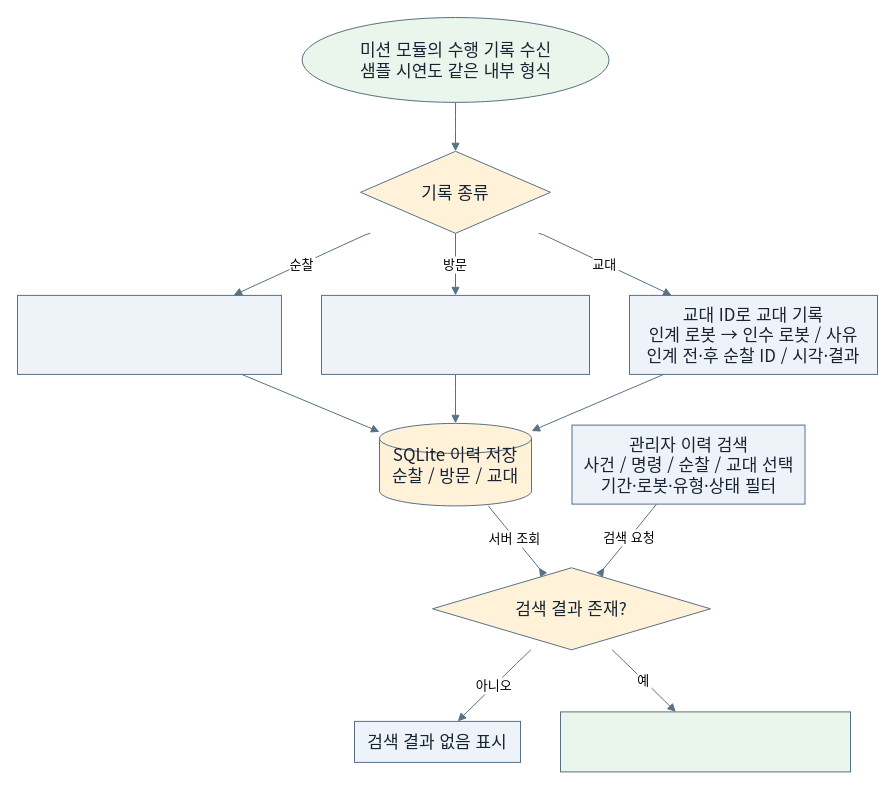
Some shapes in this 895 by 790 pixel diagram are drawn without their labels. The shapes that lost their labels are listed below. From the top down, each one's centre as x and y in pixels, then its label:
At point 149,334: "순찰 ID로 시작·진행·종료 갱신 로봇 / 경로 버전 / 시작·종료 시각 결과 / 연관 명령 ID (없을 수 있음)".
At point 455,334: "관측점 방문 기록 순찰 ID / P1~P7 / 방문 시각·결과 재방문과 중복 메시지 구분".
At point 705,741: "목록 → 상세 / 시간순 변경 이력 관련 사건·명령·순찰·교대 연결 확인".
